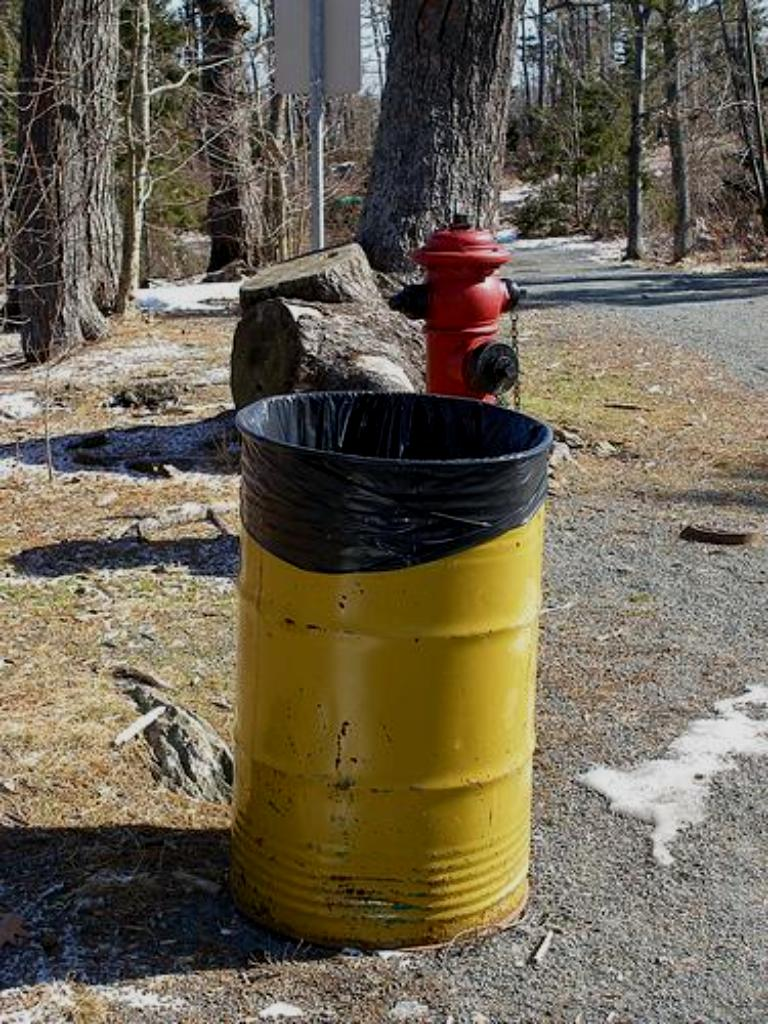dustbin: (234, 379, 574, 949)
